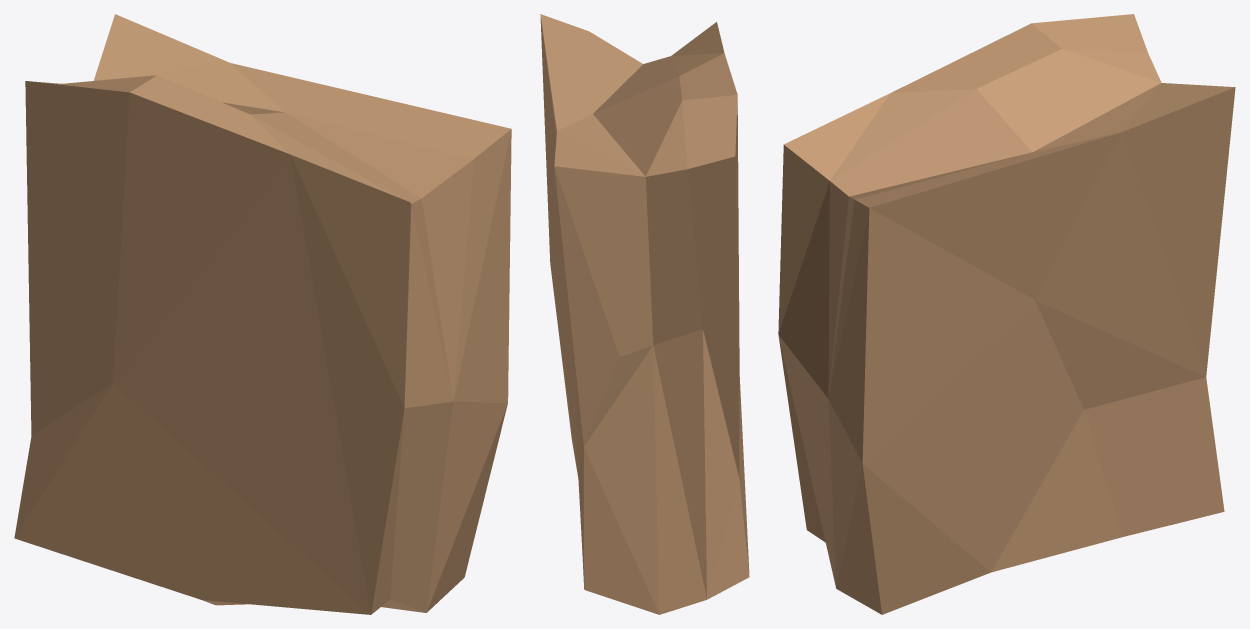
The model's file is Boulder_03_Flat.fbx.
3 views of the same model, side by side, from view 1: azimuth 30°, elevation 25°; view 2: azimuth 150°, elevation 25°; view 3: azimuth 270°, elevation 25° (orthographic). The views are drawn at different scales.
Visible parts, largest first — view 1: Boulder_03_Flat; view 2: Boulder_03_Flat; view 3: Boulder_03_Flat.
Part boxes in pixels (x1,y1,x2,y2): Boulder_03_Flat: (14, 14, 511, 614); Boulder_03_Flat: (540, 14, 749, 614); Boulder_03_Flat: (778, 14, 1235, 614).
Size of the model in its own units: 2.75 by 3.79 by 3.14.
